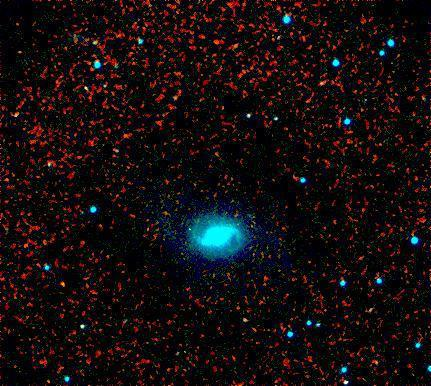star: (44, 266, 74, 296)
